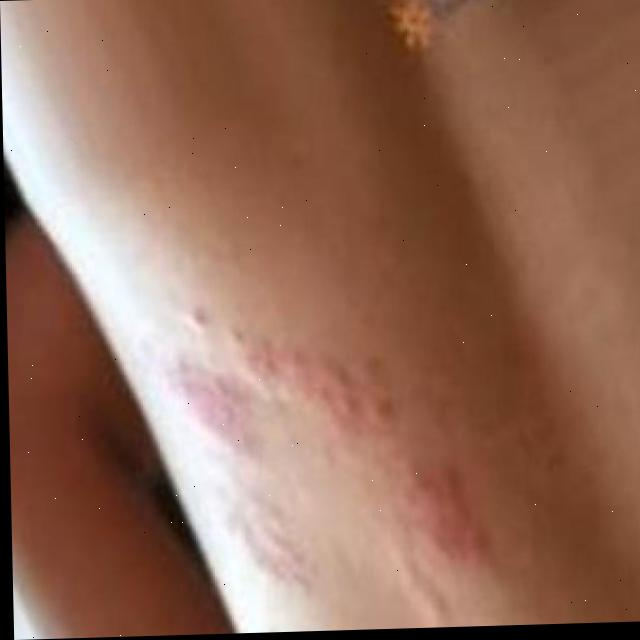Shingles: (167, 325, 484, 596)
